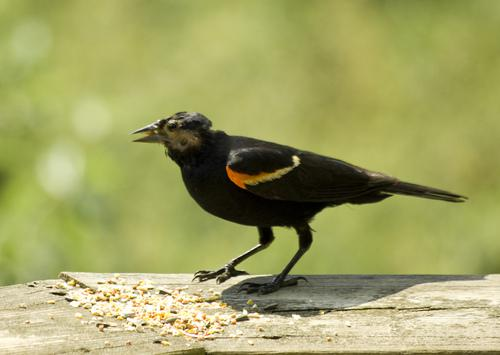010.Red_winged_Blackbird: (131, 109, 470, 297)
